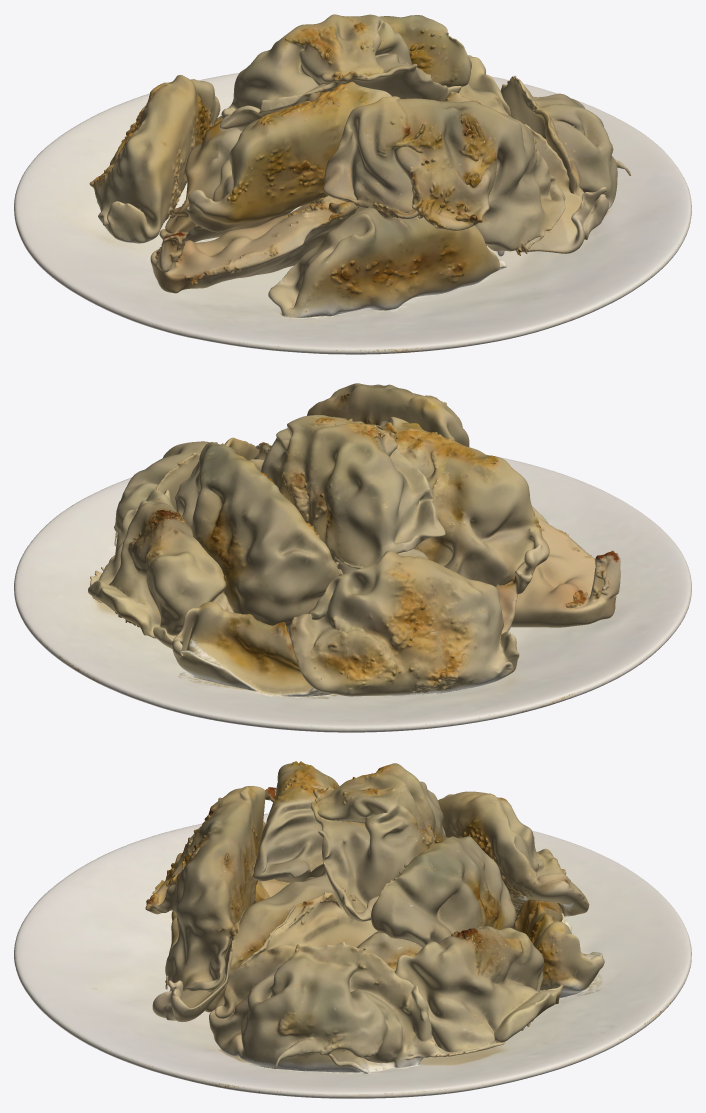
Rendered from img_1467-2026-09-05.glb.
3 views of the same model, one above another, from view 1: azimuth 30°, elevation 25°; view 2: azimuth 150°, elevation 25°; view 3: azimuth 270°, elevation 25° (orthographic).
Size of the model in its own units: 1.9 by 0.6603 by 1.9.
Materials: 1 (1 with a texture image).
